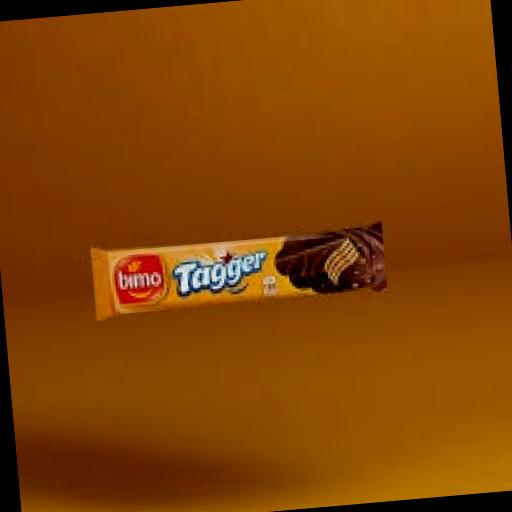tagger: (56, 156, 452, 465)
